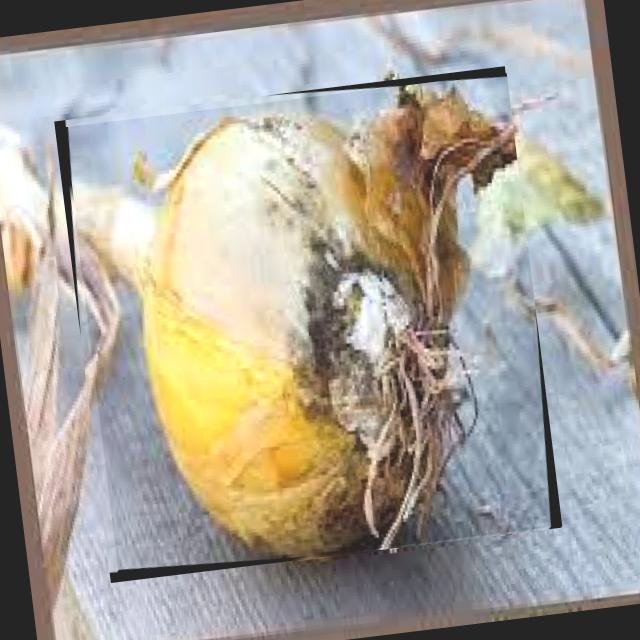rotten: (71, 84, 516, 556)
